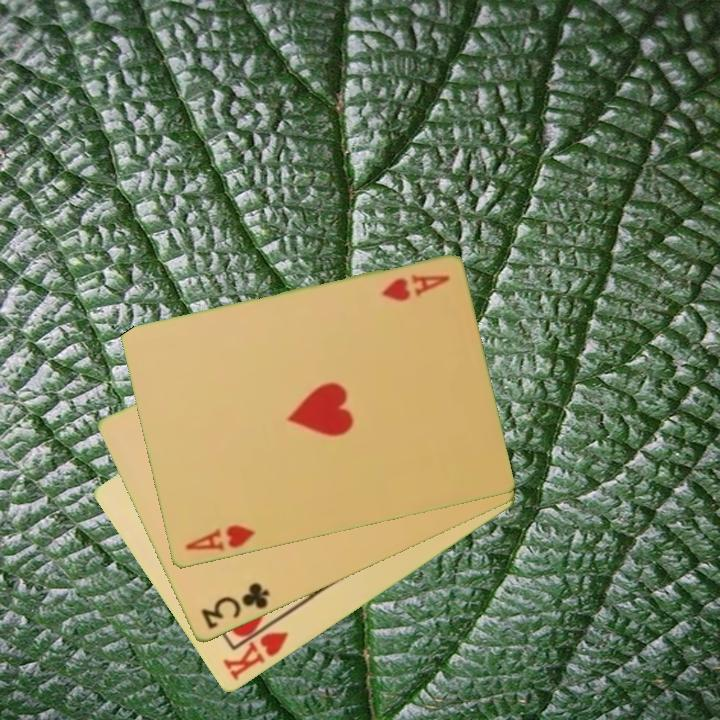3c: (197, 579, 272, 633)
Ah: (181, 522, 258, 555), (378, 271, 452, 305)
Kh: (219, 615, 292, 685)
